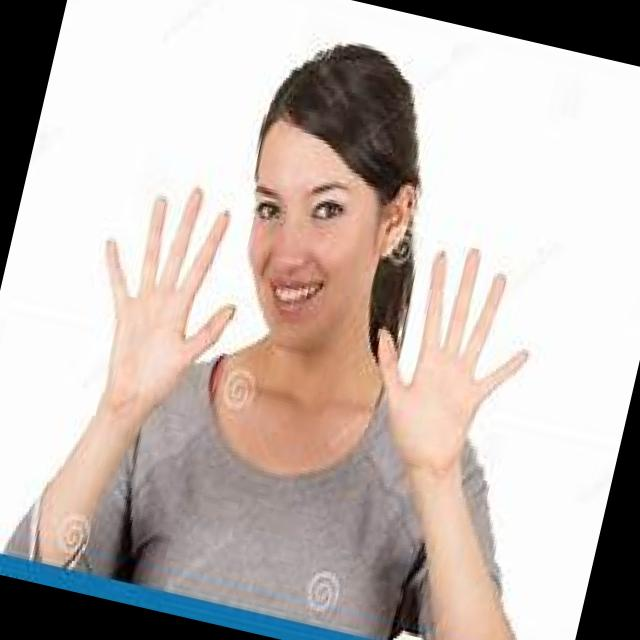not-gloved: (348, 214, 570, 496), (67, 142, 269, 439)
